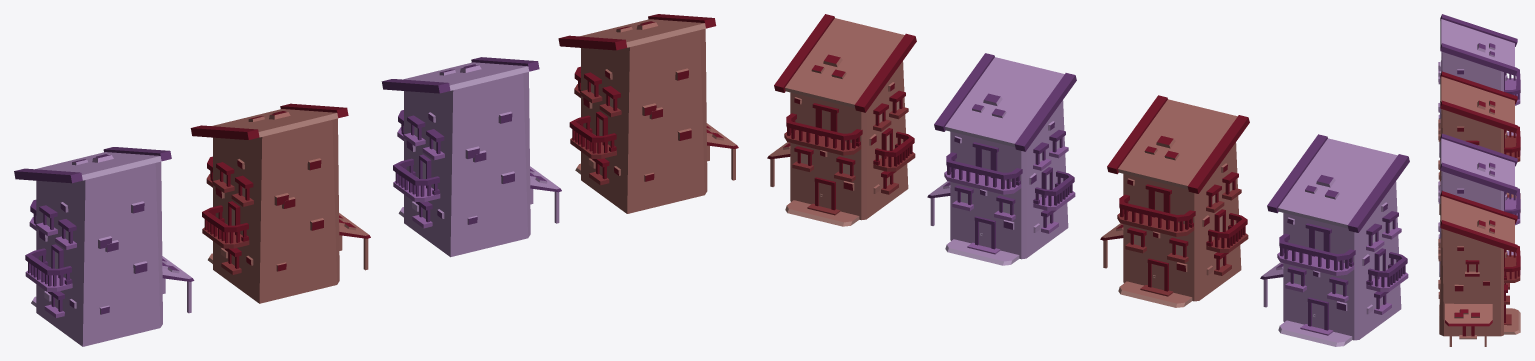
File: smallhouse.fbx
3 views of the same model, side by side, from view 1: azimuth 30°, elevation 25°; view 2: azimuth 150°, elevation 25°; view 3: azimuth 270°, elevation 25° (orthographic). The views are drawn at different scales.
Parts seen in each view (by area): view 1: Building.002; view 2: Building.002; view 3: Building.002.
Boxes of the visible parts, <box> form: Building.002: <box>14,14,738,346</box>; Building.002: <box>767,14,1409,346</box>; Building.002: <box>1438,14,1520,346</box>.
Bounding box in the file's own units: 34.91 × 8.42 × 5.46.
